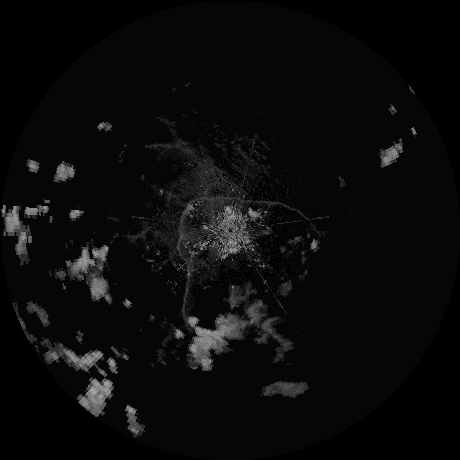frontgust: (191, 197, 317, 231), (175, 209, 196, 328)
